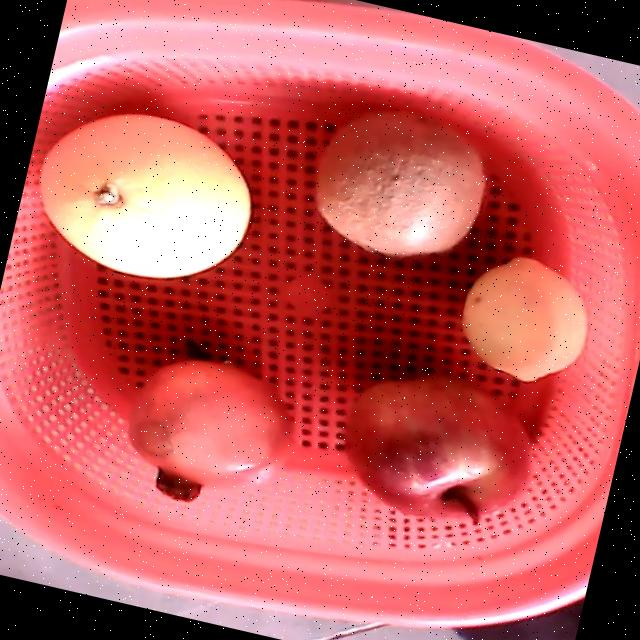apple: (342, 374, 531, 524)
kiwi: (313, 108, 485, 256)
lemon: (461, 257, 585, 383)
orange: (38, 113, 249, 279)
pomegranate: (126, 359, 298, 502)
